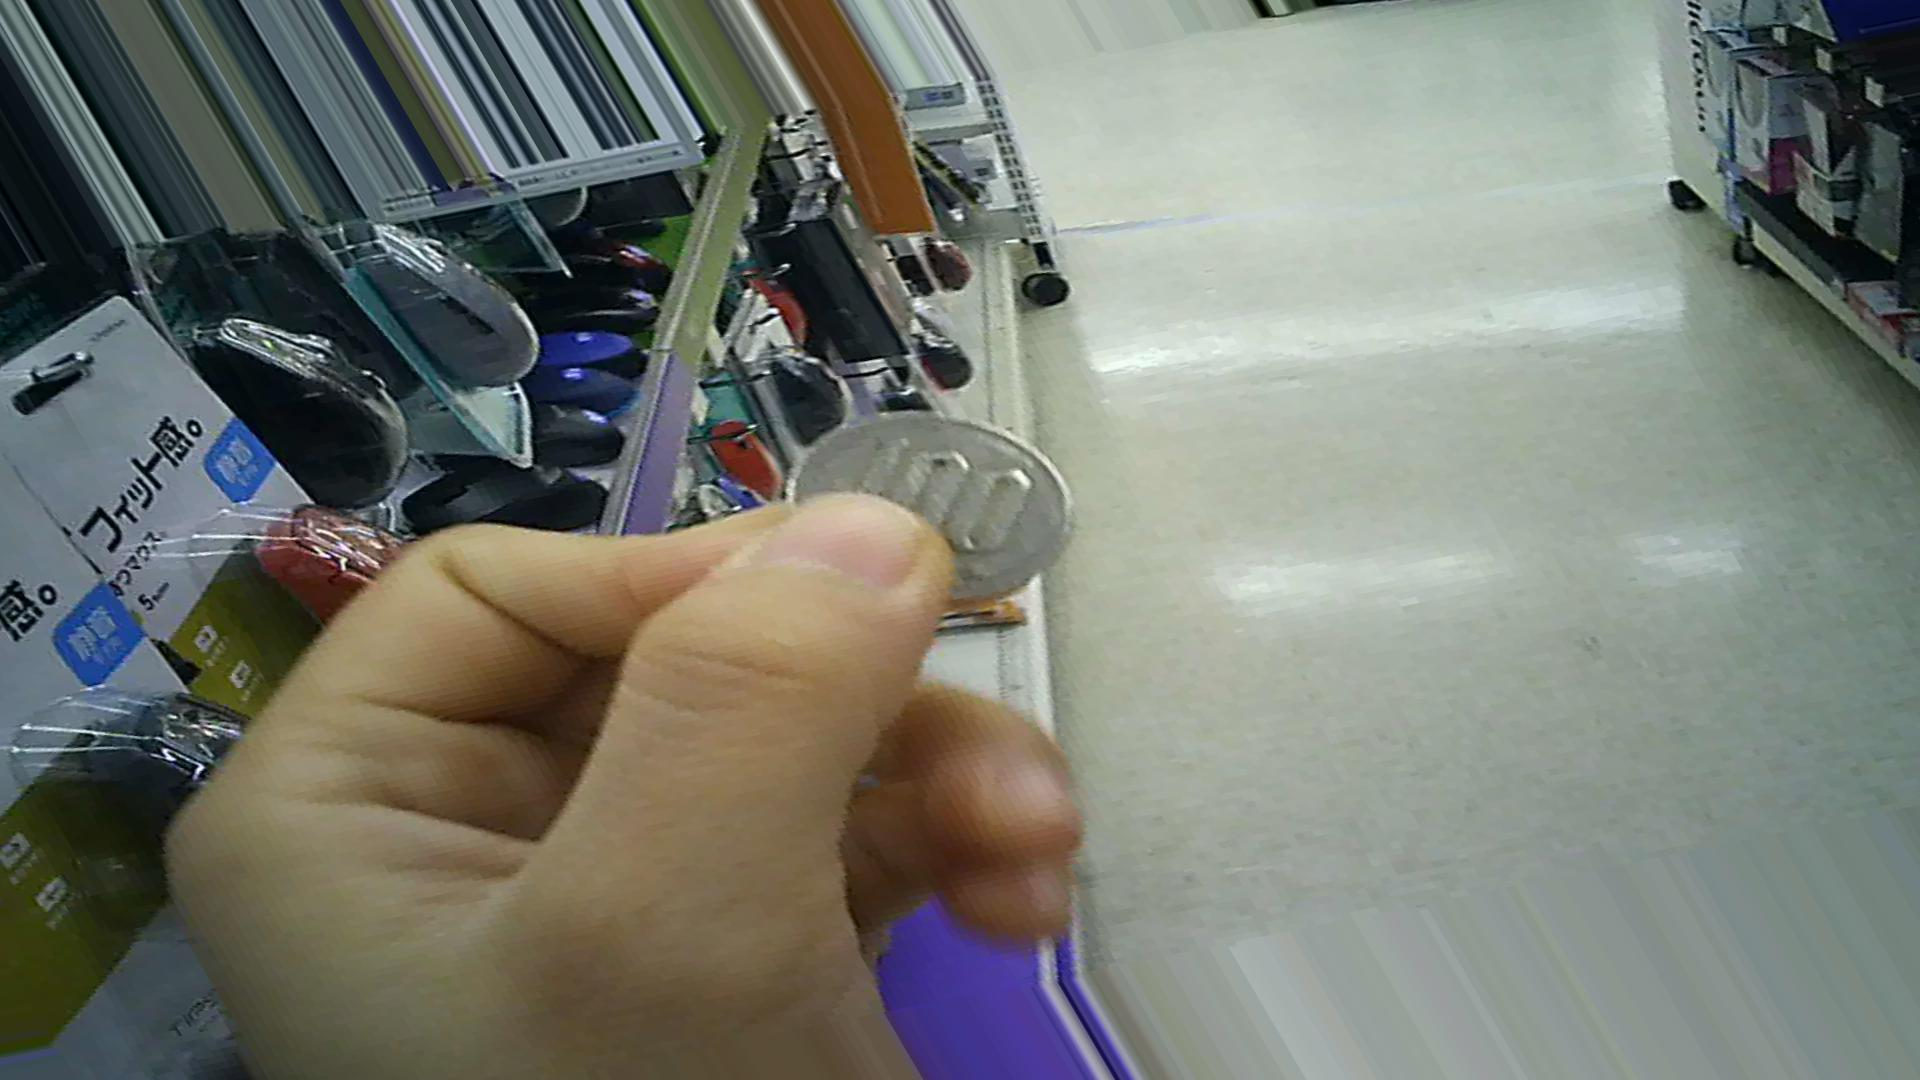100 Yen: (787, 397, 1072, 597)
